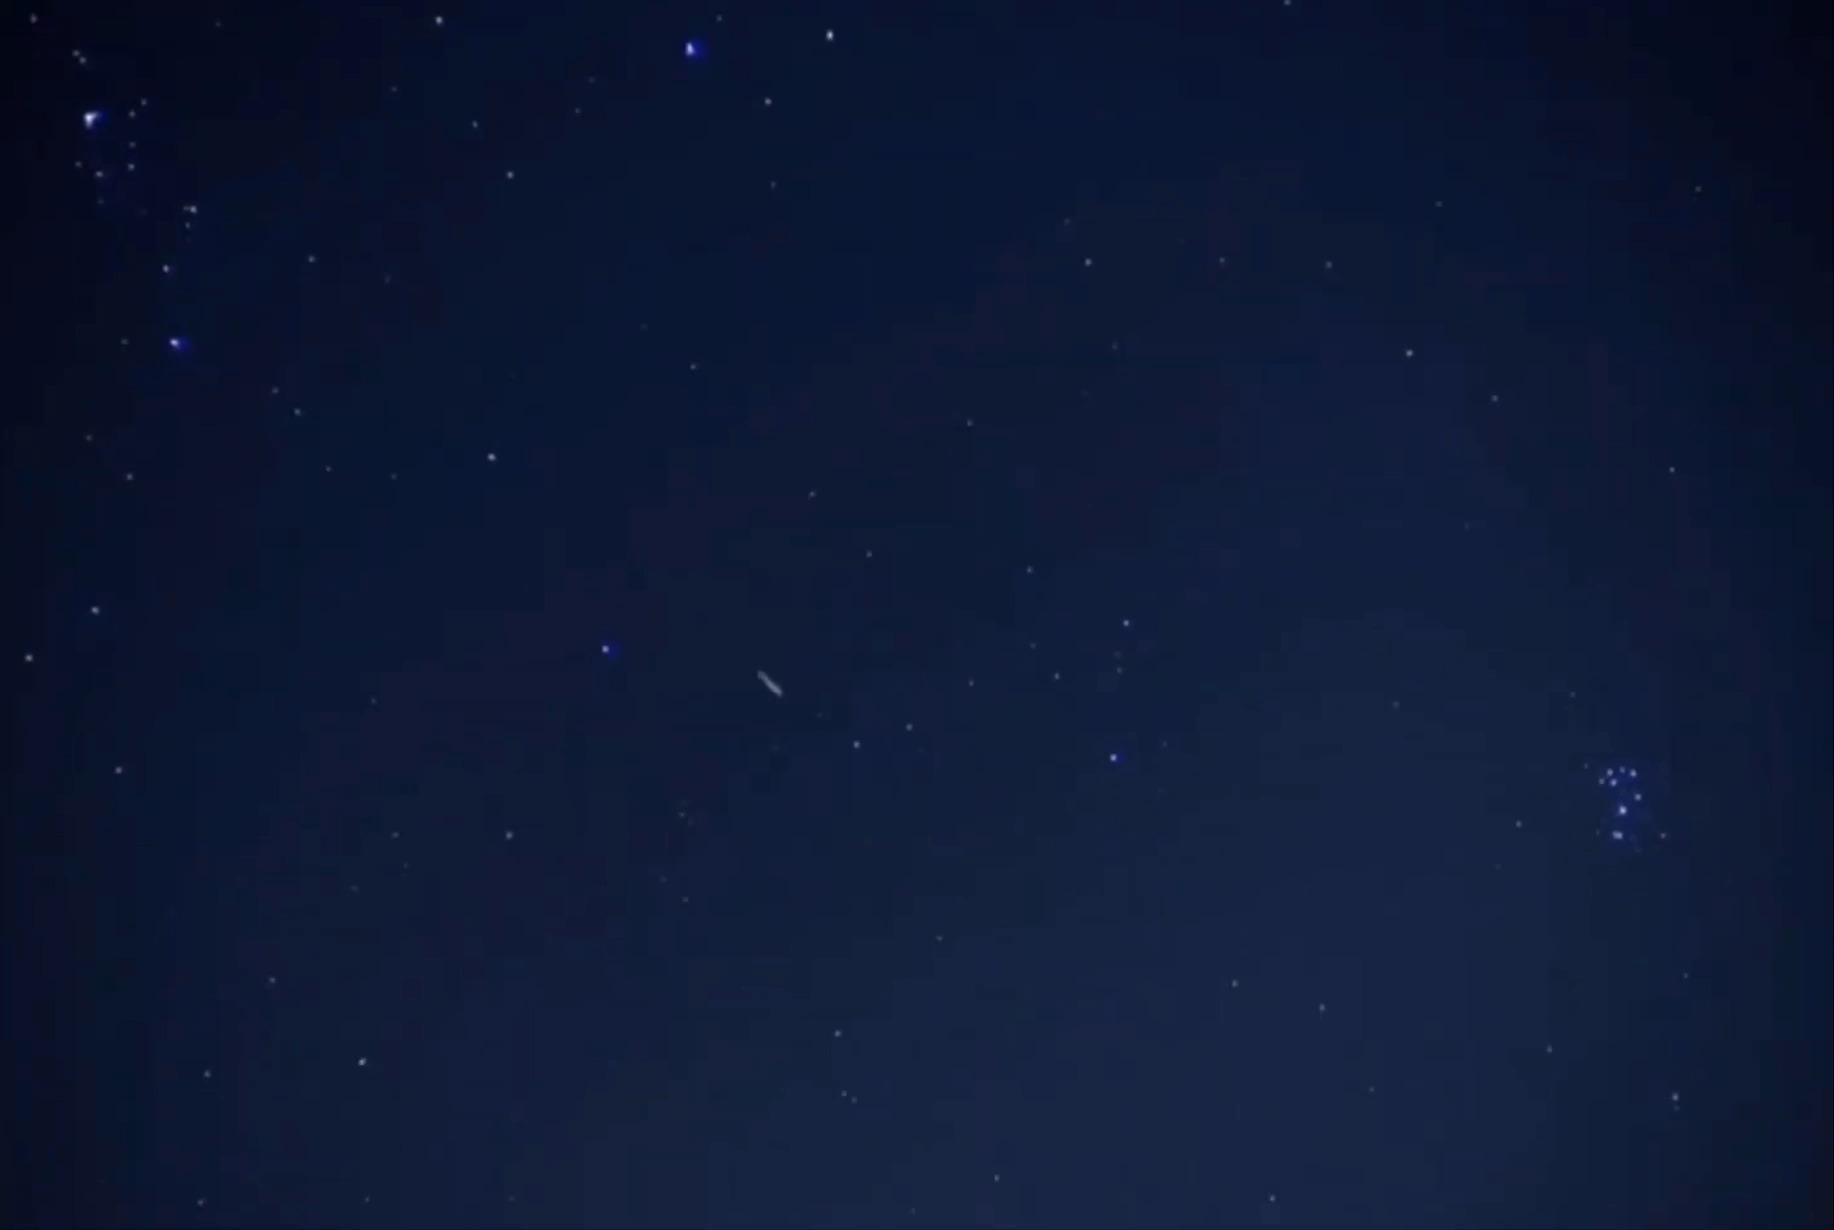meteorite: (711, 653, 821, 711)
